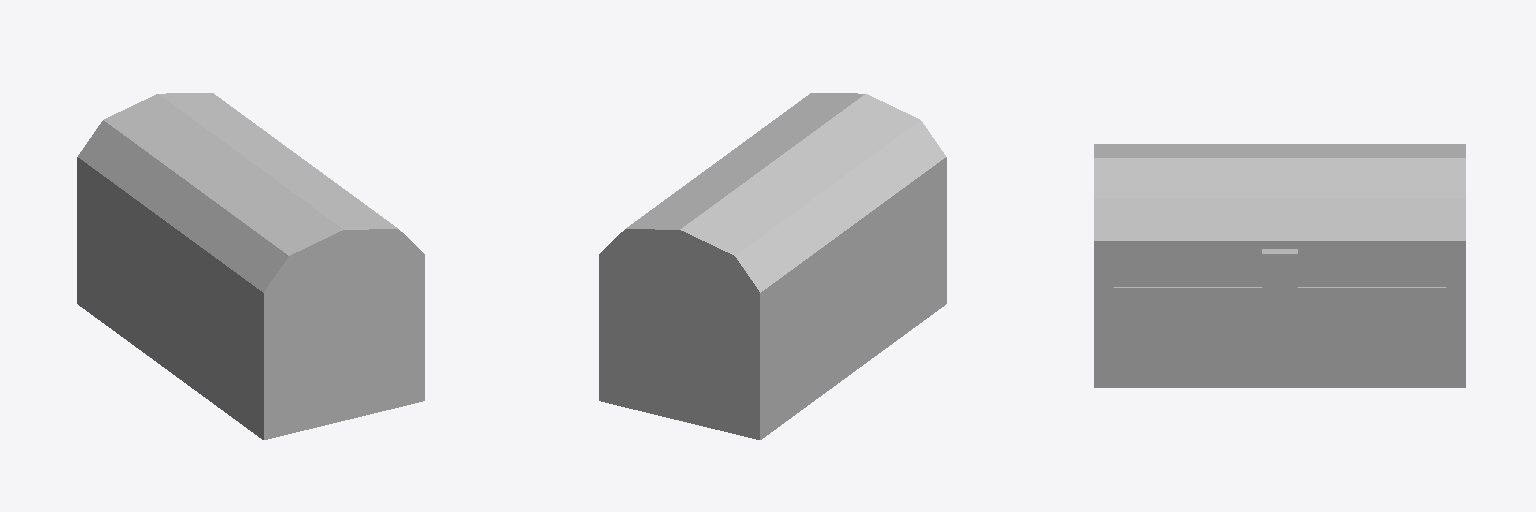
Rendered from treasurechest.obj.
3 renders of one model, left to right at view 1: azimuth 30°, elevation 25°; view 2: azimuth 150°, elevation 25°; view 3: azimuth 270°, elevation 25°, orthographic.
Parts seen in each view (by area): view 1: Cube; view 2: Cube; view 3: Cube.
Part boxes in pixels (left/top/right/bottom): Cube: left=77, top=93, right=424, bottom=439; Cube: left=599, top=93, right=946, bottom=439; Cube: left=1094, top=144, right=1465, bottom=387.
Bounding box in the file's own units: 0.8492 × 0.9066 × 1.6.